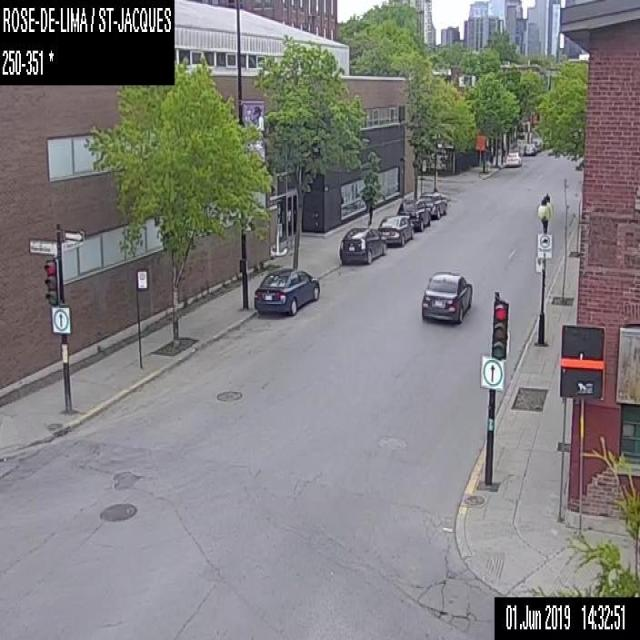construction: (474, 135, 485, 174)
vehicle: (252, 266, 320, 318), (418, 268, 472, 324), (338, 225, 384, 267), (394, 196, 430, 228), (378, 214, 413, 246), (418, 192, 447, 216), (506, 150, 522, 166), (524, 143, 536, 154)
